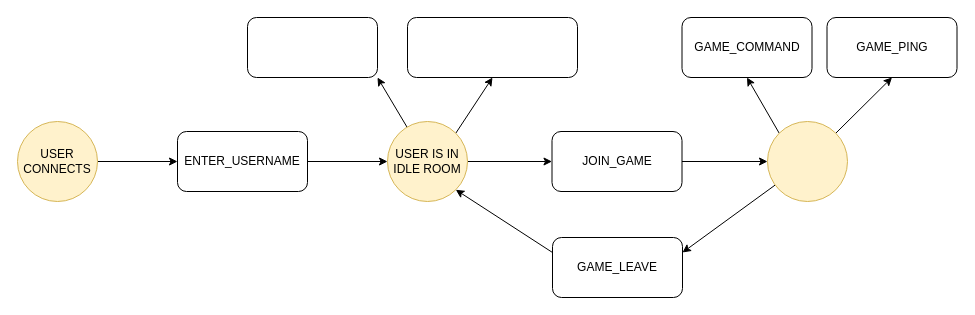
Some shapes in this 975 by 315 pixel diagram are drawn without their labels. Here are the shapes that lost their labels. From the top down, the centre of each, then its label:
point (312, 47): GET_ROOM_LIST
point (492, 47): TERMINATE_CONNECTION
point (807, 161): USER IS IN GAME
